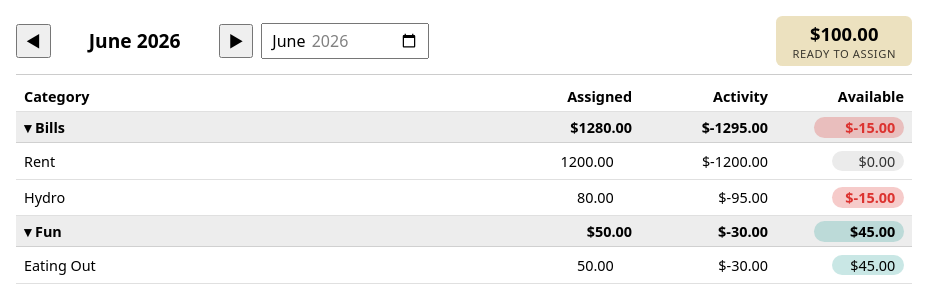
Scenario: BudgetPage month grid (E3.S2) › collapsing a group hides its category rows but keeps the subtotal
The image size is (929, 301).
Expected: the field named "Assigned to Hydro" is shown, [512,184,620,210]
What coordinates should you click on to do the following:
click the button "▾ Bills"
I would click on:
 (44, 127)
Its box is [24,118,65,137].
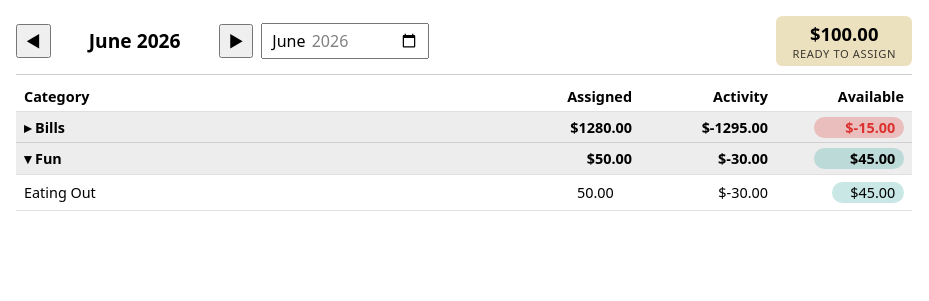
Expected: the text "$1280.00" is shown, [504,112,640,143]
Expected: the field named "Assigned to Eating Out" is shown, [512,179,620,205]
What coordinates should you click on to do the following:
click the button "▸ Bills"
I would click on:
 (44, 127)
Its box is [24,118,65,137].
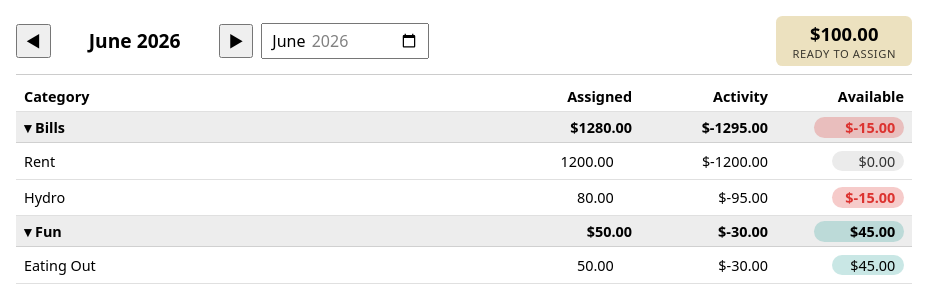
Expected: the field named "Assigned to Rent" is shown, [512,148,620,174]
